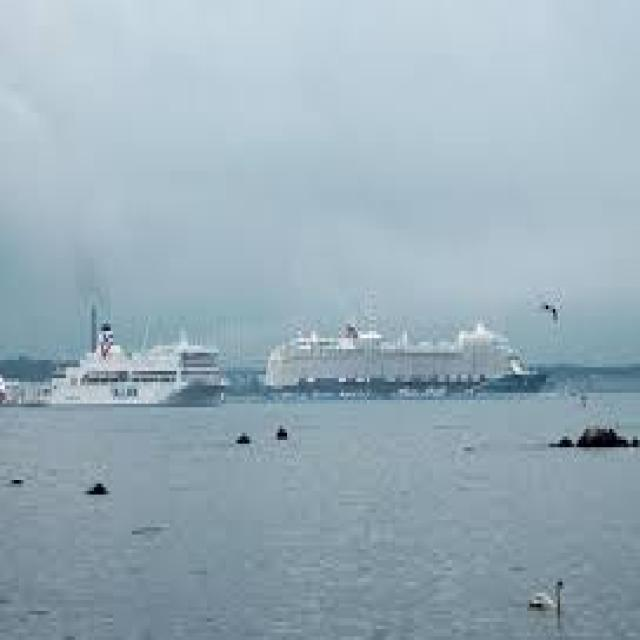passenger ship: (270, 313, 544, 400), (46, 310, 222, 422)
